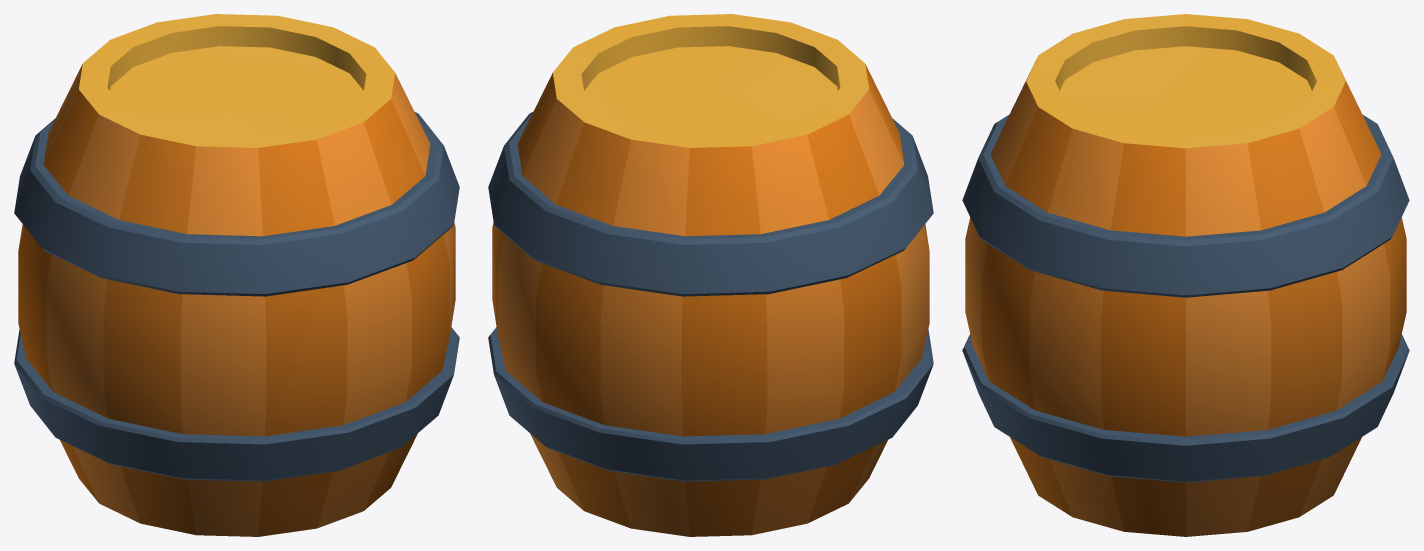
File: Barrel 1.fbx
3 renders of one model, left to right at view 1: azimuth 30°, elevation 25°; view 2: azimuth 150°, elevation 25°; view 3: azimuth 270°, elevation 25°, orthographic.
Visible parts, largest first — view 1: Cylinder.003; view 2: Cylinder.003; view 3: Cylinder.003.
Part boxes in pixels (<box>): Cylinder.003: <box>14,14,459,536</box>; Cylinder.003: <box>488,14,933,536</box>; Cylinder.003: <box>962,14,1409,536</box>.
Size of the model in its own units: 122 by 116 by 121.
